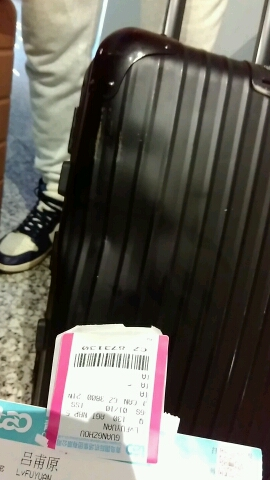rupture: (76, 189, 174, 243)
